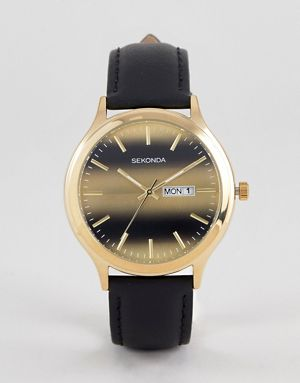clock: (63, 108, 239, 276)
